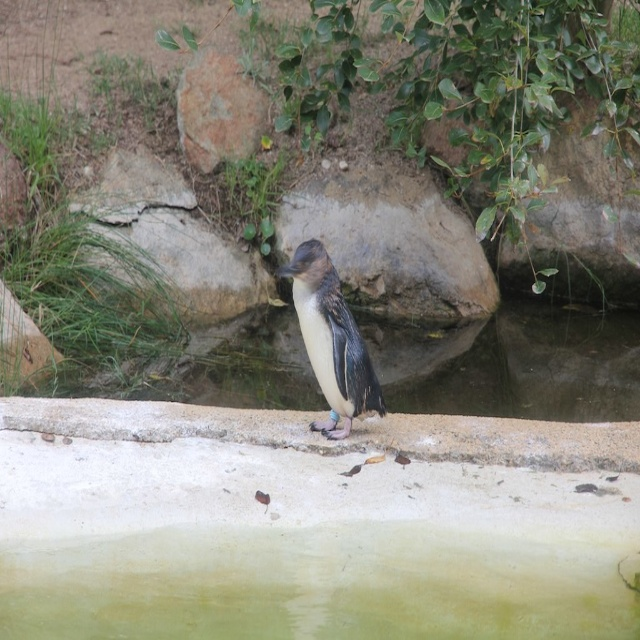Penguin: (270, 231, 394, 440)
